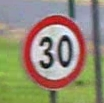limite 30: (20, 13, 87, 90)
